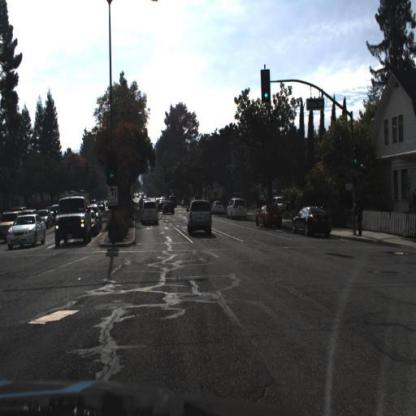car: (5, 209, 48, 253), (291, 208, 334, 241), (184, 197, 214, 241), (256, 203, 285, 231), (141, 197, 163, 233), (226, 196, 249, 223), (163, 199, 177, 220), (212, 202, 227, 215), (169, 193, 179, 205), (155, 198, 167, 207)
pedestrian: (356, 198, 364, 236)
trafficLight-Green: (261, 70, 272, 104), (353, 145, 360, 172)
trafficLight-RedLeft: (107, 153, 119, 187)
truck: (53, 193, 94, 249)
